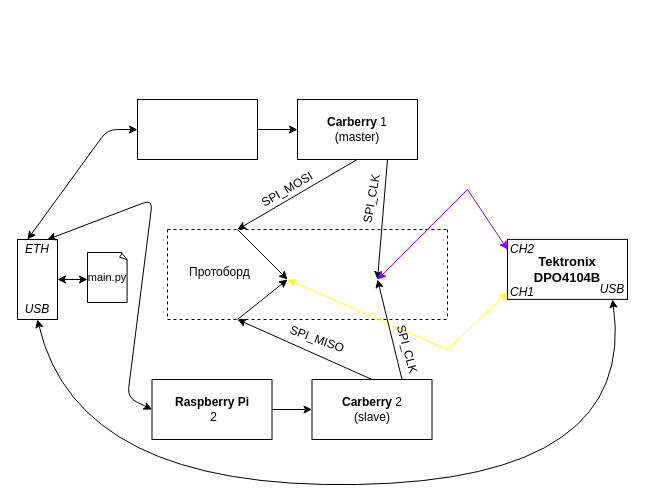
This 645x503 diagram has some shape labels left out. The box of each missing label's shape, as (x1, y1, x2, y2) in pixels:
PC: (16, 238, 58, 320)
Raspberry Pi 1: (136, 98, 258, 160)
